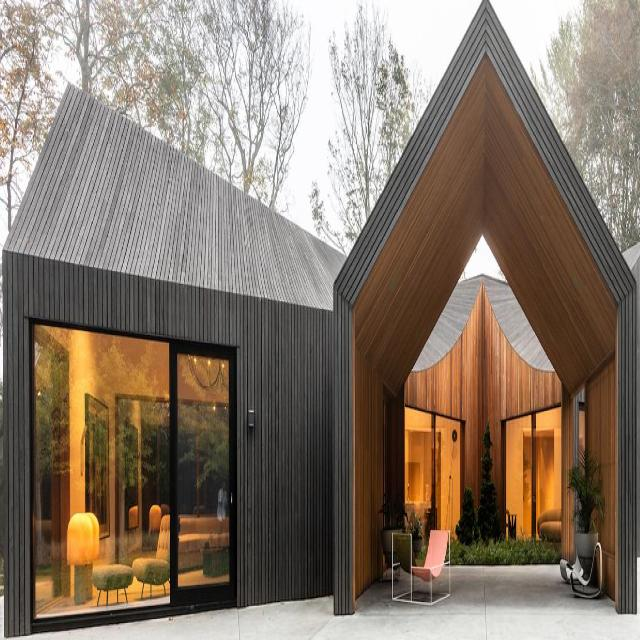door: (169, 336, 240, 612)
window: (29, 317, 238, 639)
